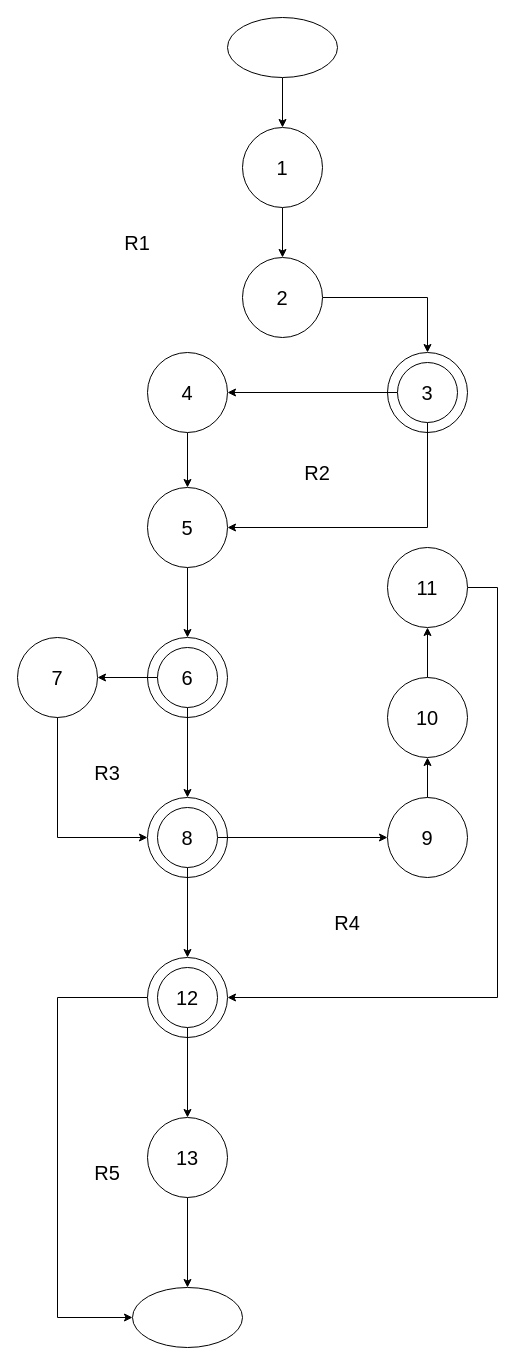
Some shapes in this 523 by 1365 pixel diagram are drawn without their labels. Here are the shapes that lost their labels. From the top down, the centre of each, then its label:
point 282,47: START
point 187,1317: FINISH
